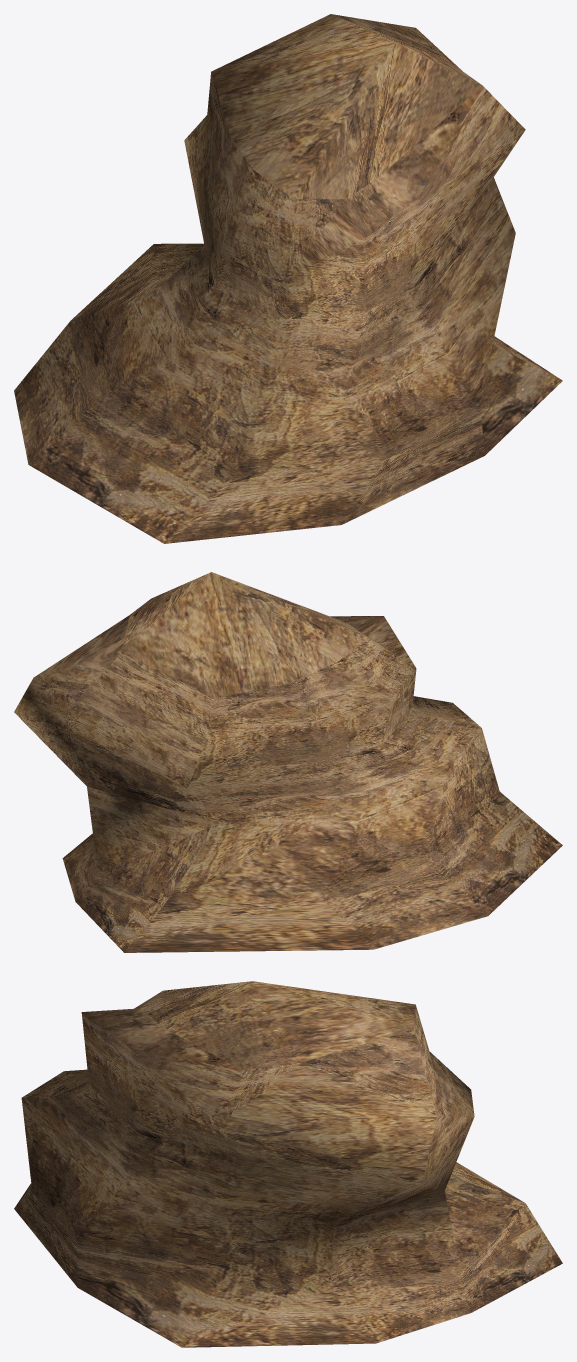
File: cj_cd_cliff_m_04.glb
The picture shows the model from 3 angles, top to bottom: view 1: azimuth 30°, elevation 25°; view 2: azimuth 150°, elevation 25°; view 3: azimuth 270°, elevation 25°; orthographic projection. The views are drawn at different scales.
Visible parts, largest first — view 1: w_cd_cliff_m_04; view 2: w_cd_cliff_m_04; view 3: w_cd_cliff_m_04.
Boxes of the visible parts, x1,y1,x2,y2 form: w_cd_cliff_m_04: [14, 14, 562, 543]; w_cd_cliff_m_04: [14, 572, 562, 952]; w_cd_cliff_m_04: [14, 981, 562, 1347].
Bounding box in the file's own units: 8.35 × 5.29 × 8.52.
1 material, 1 textured.
